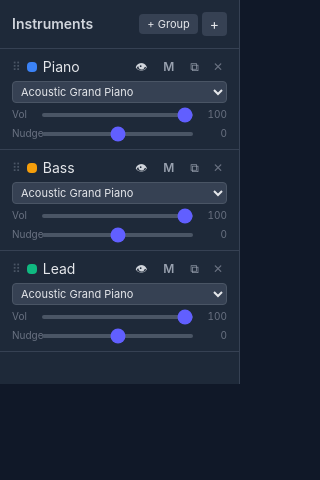
Test: InstrumentsPanel groups › creating and removing › adds a group
The image size is (320, 480).
Click the button with aria-label "Add group": [169, 24] box [139,14,198,34]
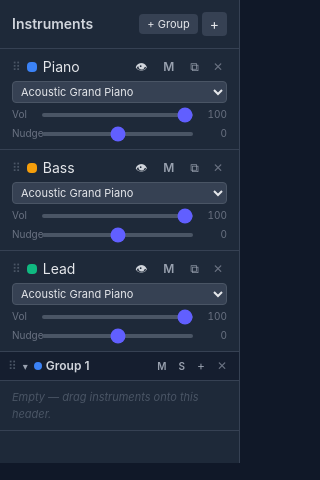
Now the text "Group 1" is shown, box [46,358,90,373]
